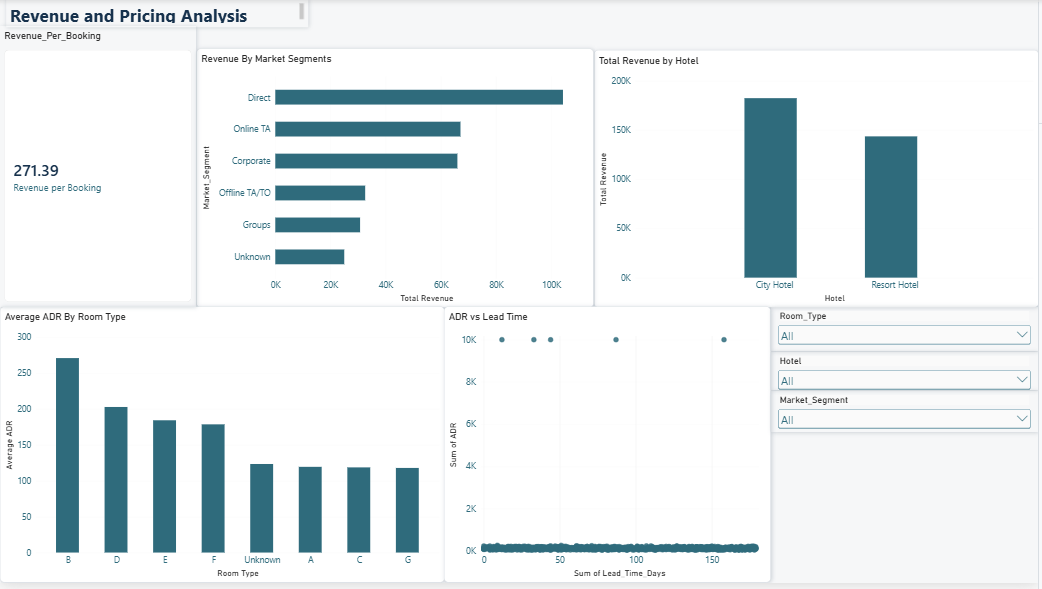

What the dashboard file says about the page in this screenshot:
{"tool":"powerbi","page":{"name":"Page 2","canvas":[1920,1080],"ordinal":1},"visuals":[{"type":"textbox","box":[11.3,0,558.4,51],"z":0},{"type":"clusteredColumnChart","title":"Total Revenue by Hotel","fields":{"Category":["Hotel Bookings - Raw.Hotel"],"Y":["Hotel Bookings - Raw.Total Revenue"]},"box":[1097,93.5,822.1,476.2],"z":1000},{"type":"clusteredBarChart","title":"Revenue By Market Segments","fields":{"Y":["Hotel Bookings - Raw.Total Revenue"],"Category":["Hotel Bookings - Raw.Market_Segment"]},"box":[362.8,90.7,734.2,479.1],"z":2000},{"type":"clusteredColumnChart","title":"Average ADR By Room Type","fields":{"Category":["Hotel Bookings - Raw.Room_Type"],"Y":["Hotel Bookings - Raw.Average ADR"]},"box":[0,569.8,822.1,510.2],"z":3000},{"type":"scatterChart","title":"ADR vs Lead Time","fields":{"X":["Sum(Hotel Bookings - Raw.Lead_Time_Days)"],"Y":["Sum(Hotel Bookings - Raw.ADR)"],"Category":["Hotel Bookings - Raw.Booking_ID"]},"box":[822.1,569.8,603.8,510.2],"z":4000},{"type":"cardVisual","title":"Revenue_Per_Booking","fields":{"Data":["Hotel Bookings - Raw.Revenue per Booking"]},"box":[0,51,362.8,518.7],"z":5000},{"type":"slicer","fields":{"Values":["Hotel Bookings - Raw.Room_Type"]},"box":[1425.8,569.8,493.2,82.2],"z":6000},{"type":"slicer","fields":{"Values":["Hotel Bookings - Raw.Hotel"]},"box":[1425.8,652,493.2,70.9],"z":7000},{"type":"slicer","fields":{"Values":["Hotel Bookings - Raw.Market_Segment"]},"box":[1425.8,722.8,493.2,76.5],"z":8000}]}

Visuals, with their boxes in screenshot pixels (x1, y1, x2, y2), scaled from the page's 1920x1080 canvas onto the 1042x589 screenshot:
textbox: (6, 0, 309, 28)
"Total Revenue by Hotel" clusteredColumnChart: (595, 51, 1041, 311)
"Revenue By Market Segments" clusteredBarChart: (197, 49, 595, 311)
"Average ADR By Room Type" clusteredColumnChart: (0, 311, 446, 588)
"ADR vs Lead Time" scatterChart: (446, 311, 774, 588)
"Revenue_Per_Booking" cardVisual: (0, 28, 197, 311)
slicer - Hotel Bookings - Raw.Room_Type: (774, 311, 1041, 356)
slicer - Hotel Bookings - Raw.Hotel: (774, 356, 1041, 394)
slicer - Hotel Bookings - Raw.Market_Segment: (774, 394, 1041, 436)
